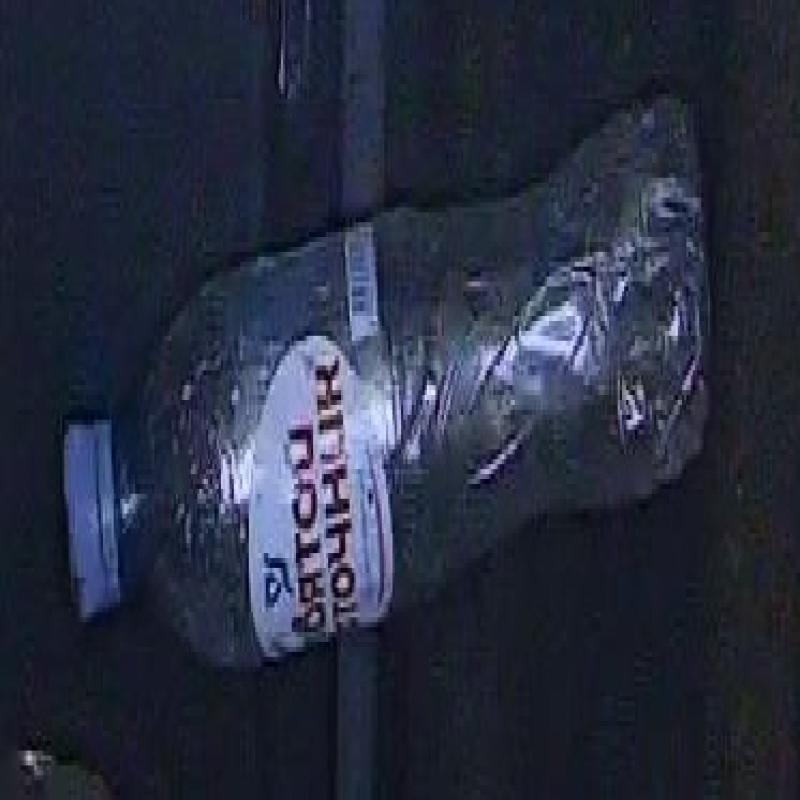botella: (39, 119, 719, 680)
